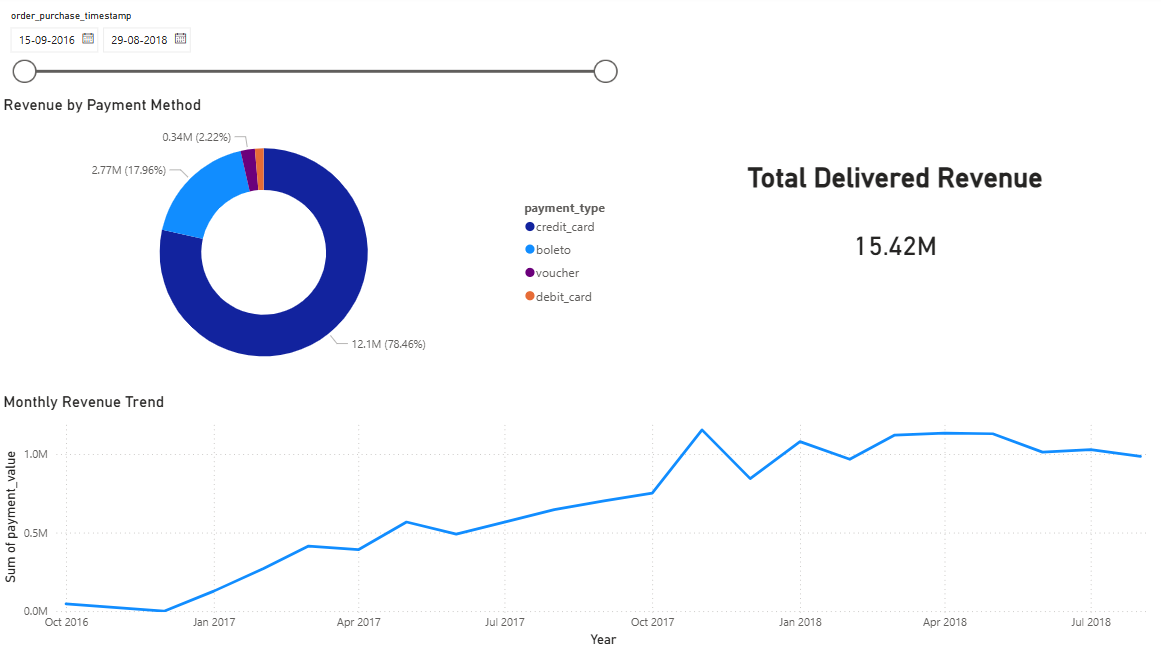

This screenshot's page, from the dashboard's own definition file:
{"tool":"powerbi","page":{"name":"Page 1","canvas":[1280,720],"ordinal":0},"visuals":[{"type":"card","title":"Total Delivered Revenue","fields":{"Values":["Sum(public payments.payment_value)"]},"box":[687.5,182.5,592.8,146.8],"z":0},{"type":"lineChart","title":"Monthly Revenue Trend","fields":{"Category":["public orders.order_purchase_timestamp.Variation.Date Hierarchy.Year","public orders.order_purchase_timestamp.Variation.Date Hierarchy.Quarter","public orders.order_purchase_timestamp.Variation.Date Hierarchy.Month","public orders.order_purchase_timestamp.Variation.Date Hierarchy.Day"],"Y":["Sum(public payments.payment_value)"]},"box":[0,436.4,1280.3,284],"z":1000},{"type":"donutChart","title":"Revenue by Payment Method","fields":{"Category":["public payments.payment_type"],"Y":["Sum(public payments.payment_value)"]},"box":[0,109.8,687.5,326.6],"z":2000},{"type":"slicer","fields":{"Values":["public orders.order_purchase_timestamp"]},"box":[0,11,687.5,98.8],"z":3000}]}

Visuals, with their boxes in screenshot pixels (x1, y1, x2, y2), scaled from the page's 1280x720 canvas onto the 1161x651 screenshot:
"Total Delivered Revenue" card: [x1=624, y1=165, x2=1160, y2=298]
"Monthly Revenue Trend" lineChart: [x1=0, y1=395, x2=1160, y2=650]
"Revenue by Payment Method" donutChart: [x1=0, y1=99, x2=624, y2=395]
slicer - public orders.order_purchase_timestamp: [x1=0, y1=10, x2=624, y2=99]
